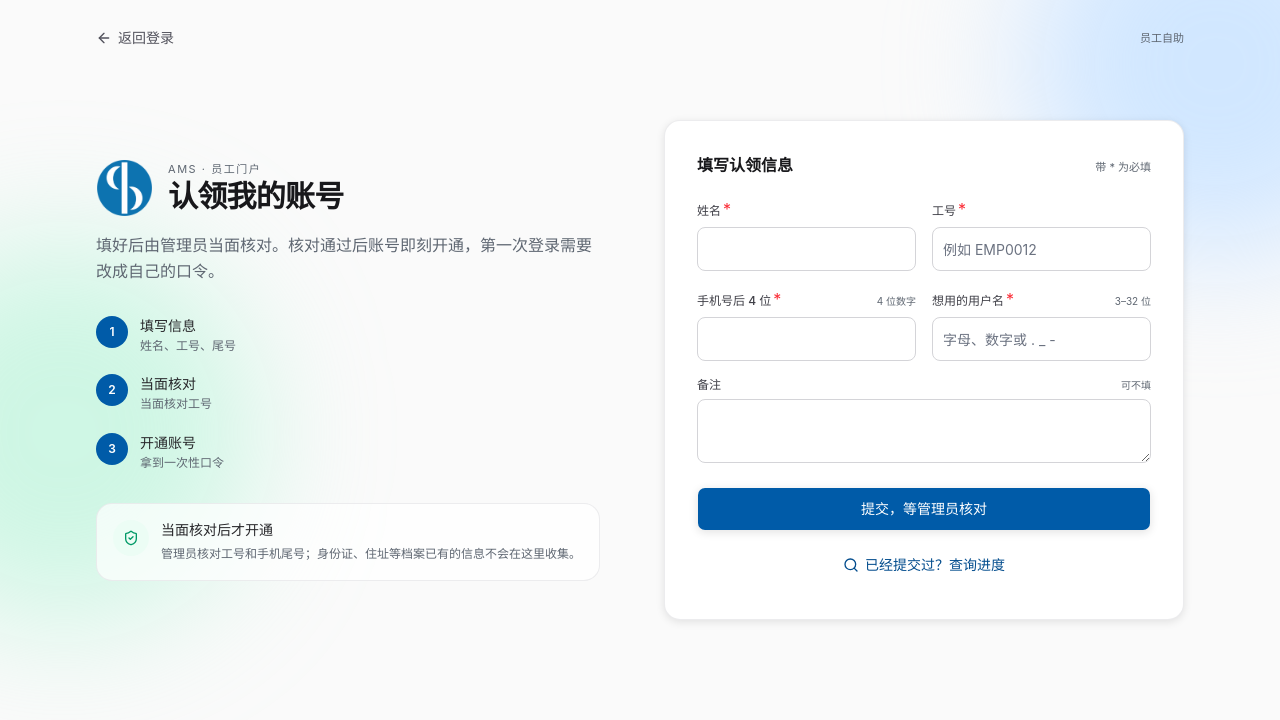
Scenario: 认领表单行内校验 › 尾号 3 位：只标尾号，改第 4 位后 helper 消失且内容保留
This screenshot has width=1280, height=720.
Type "何斌" into the field labelled "姓名".
click(806, 249); type("何斌")  # box [697,227,916,271]
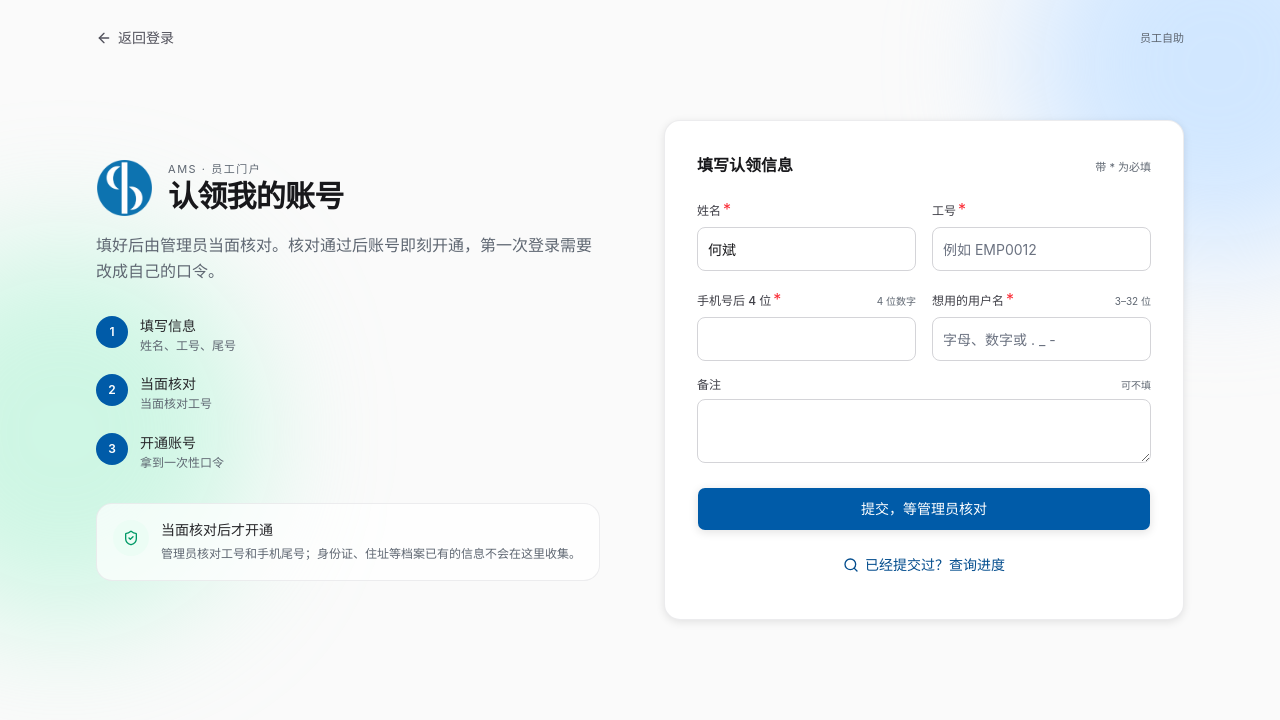
Type "EMP0027" into the field labelled "工号".
click(1042, 249); type("EMP0027")  # box [932,227,1151,271]
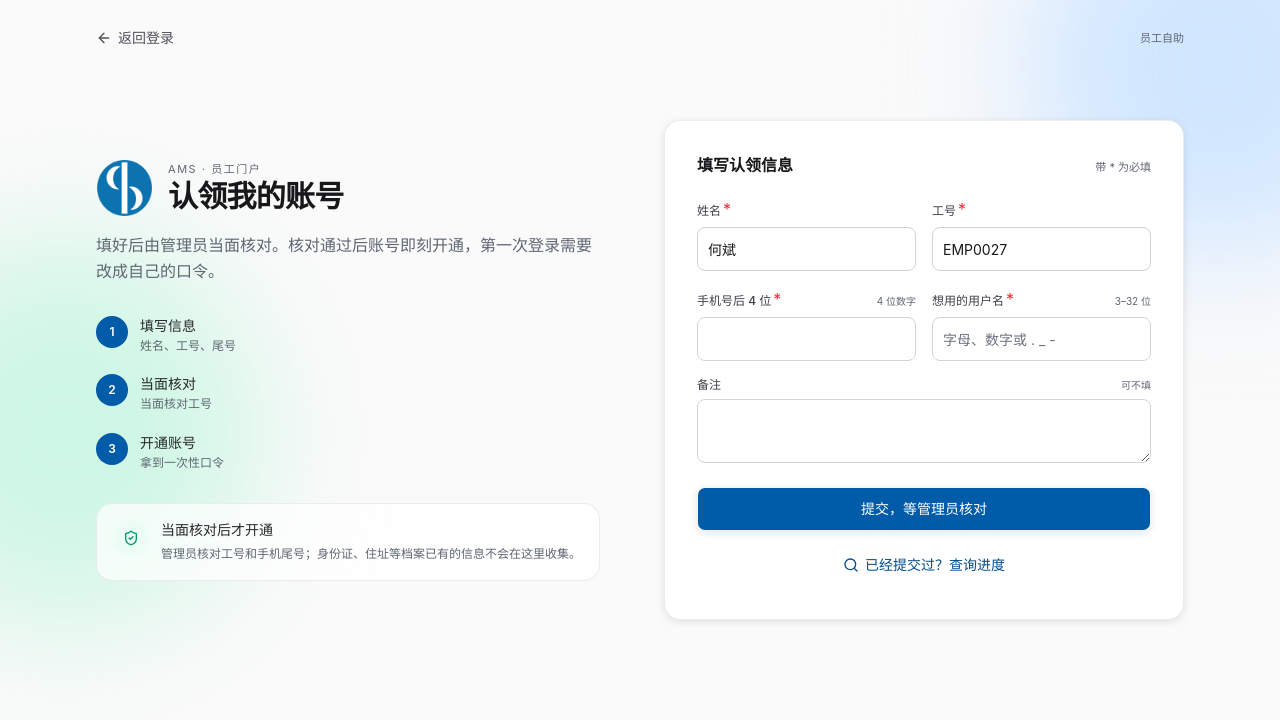
Type "123" into the field labelled "手机号后 4 位".
click(806, 339); type("123")  # box [697,317,916,361]
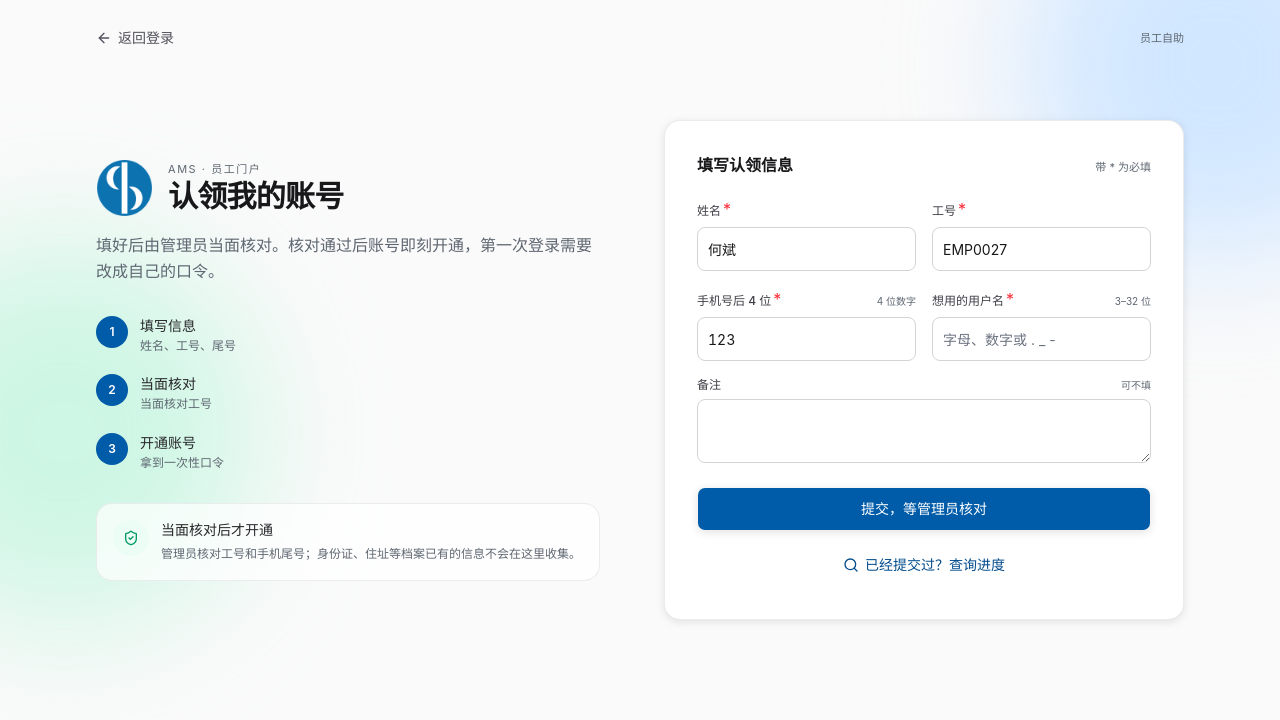
Type "heming" into the field labelled "想用的用户名".
click(1042, 339); type("heming")  # box [932,317,1151,361]
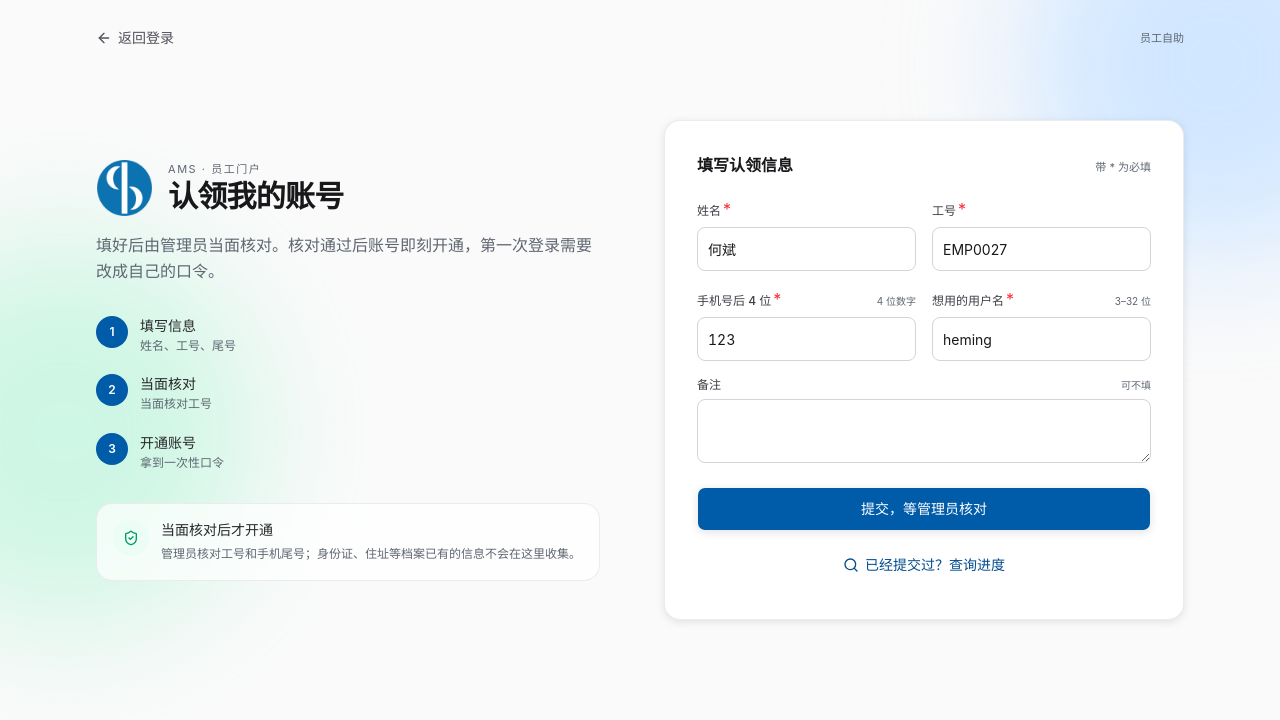
Click the button "提交，等管理员核对".
click(924, 509)  # box [697,487,1151,531]
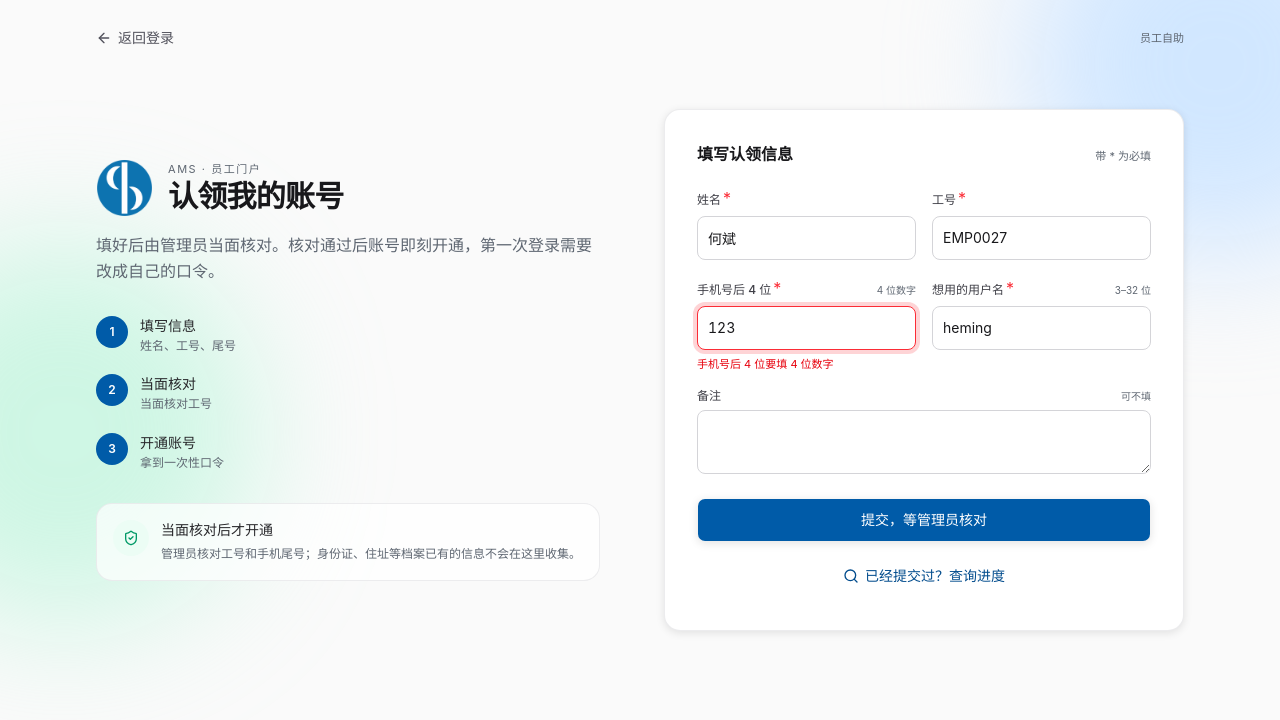
Result: the text "手机号后 4 位要填 4 位数字" is shown at [697,357,834,371]
Replace the text in the field labelled "手机号后 4 位" with "1234" at (806, 328), box [697,306,916,350]
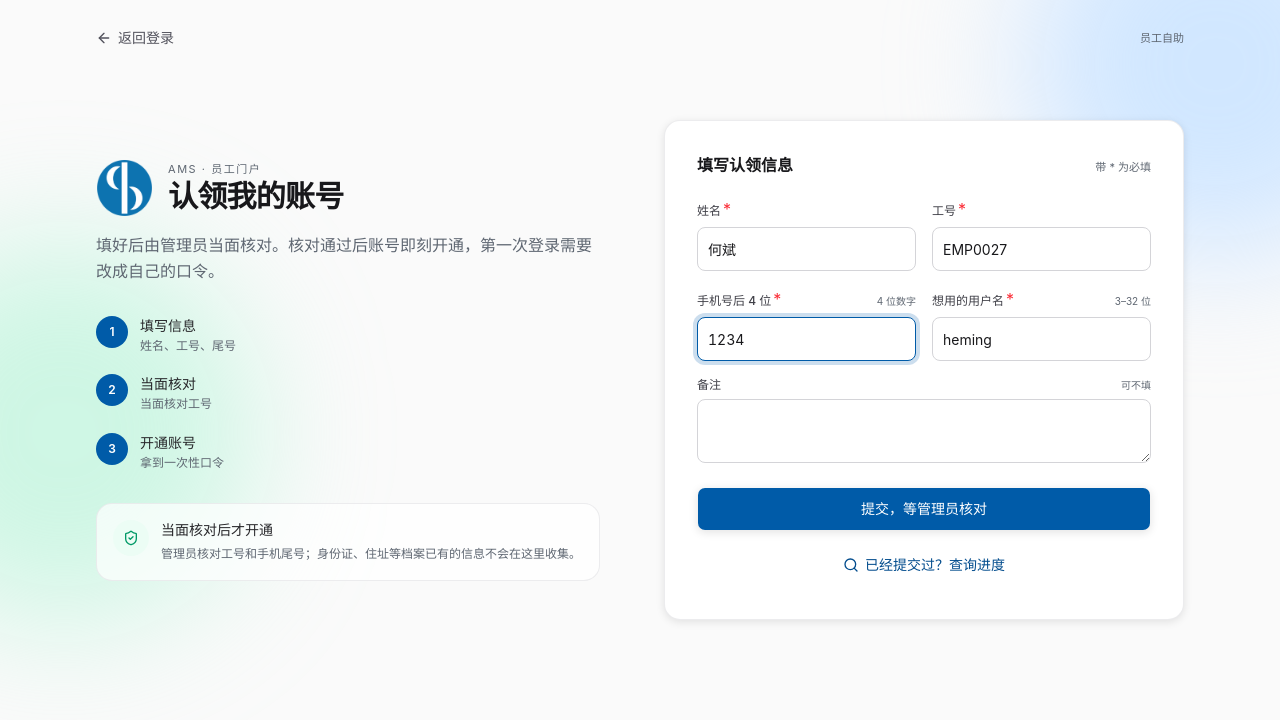
Result: the text "手机号后 4 位要填 4 位数字" is gone
